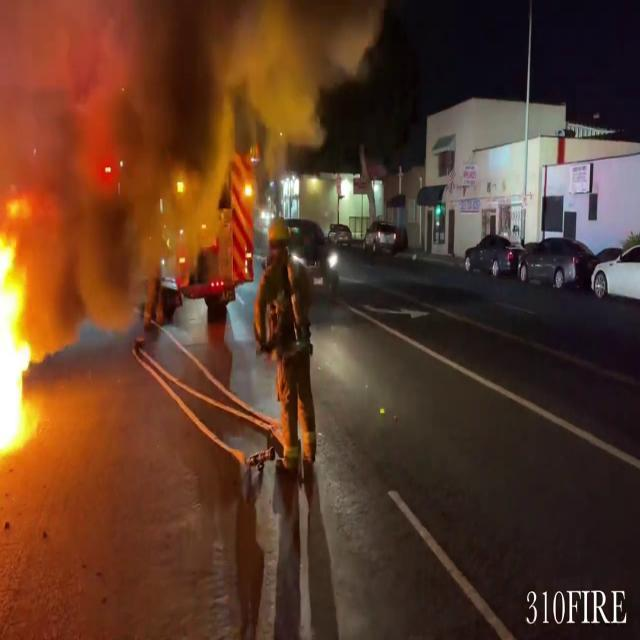Fire: (0, 209, 46, 466)
Smoke: (1, 0, 346, 322), (0, 0, 228, 322)
